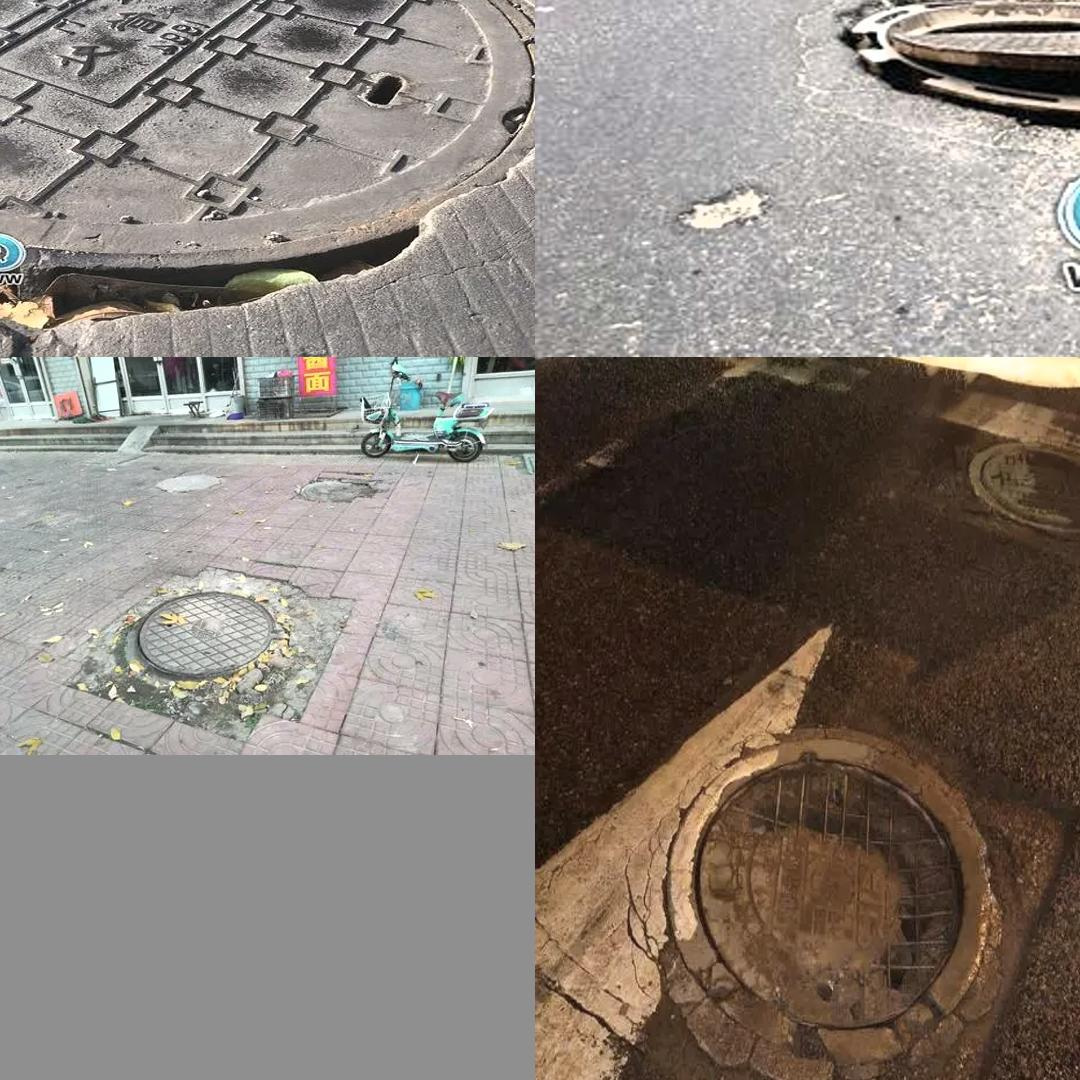circle: (576, 692, 1060, 1080), (0, 0, 513, 335), (728, 0, 1080, 168), (84, 566, 342, 735)
